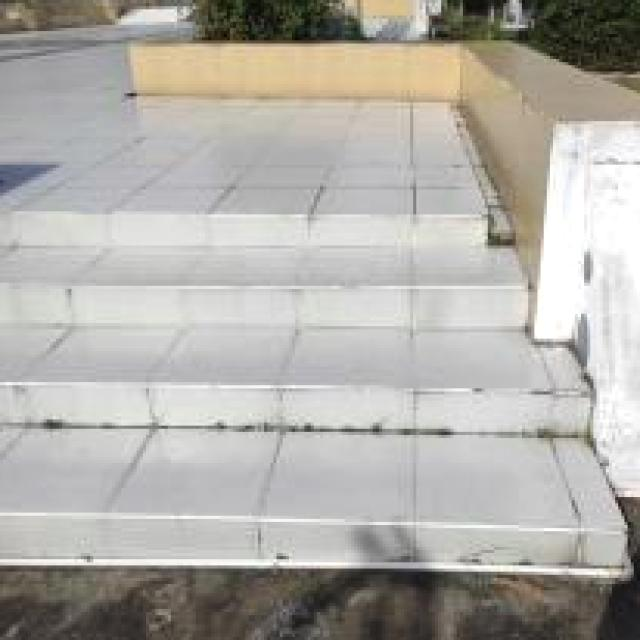upstair: (1, 200, 635, 576)
